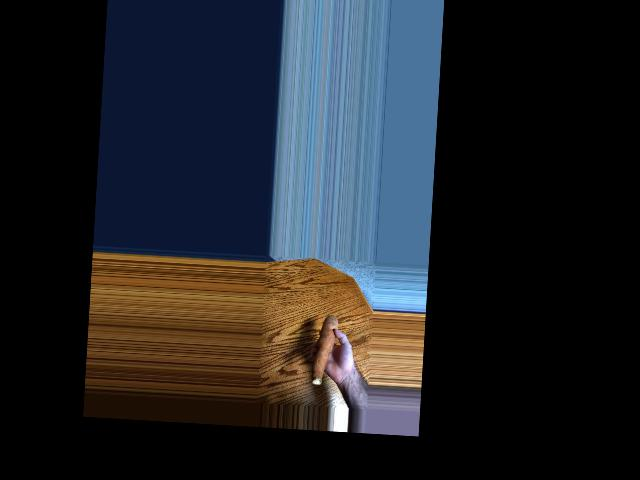sweet_potato: (311, 309, 336, 383)
